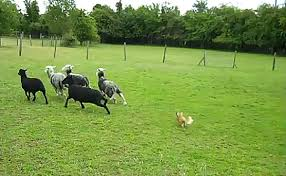sheep: (61, 75, 108, 114), (13, 68, 54, 108), (93, 67, 129, 109), (43, 64, 73, 94), (60, 62, 90, 88)
